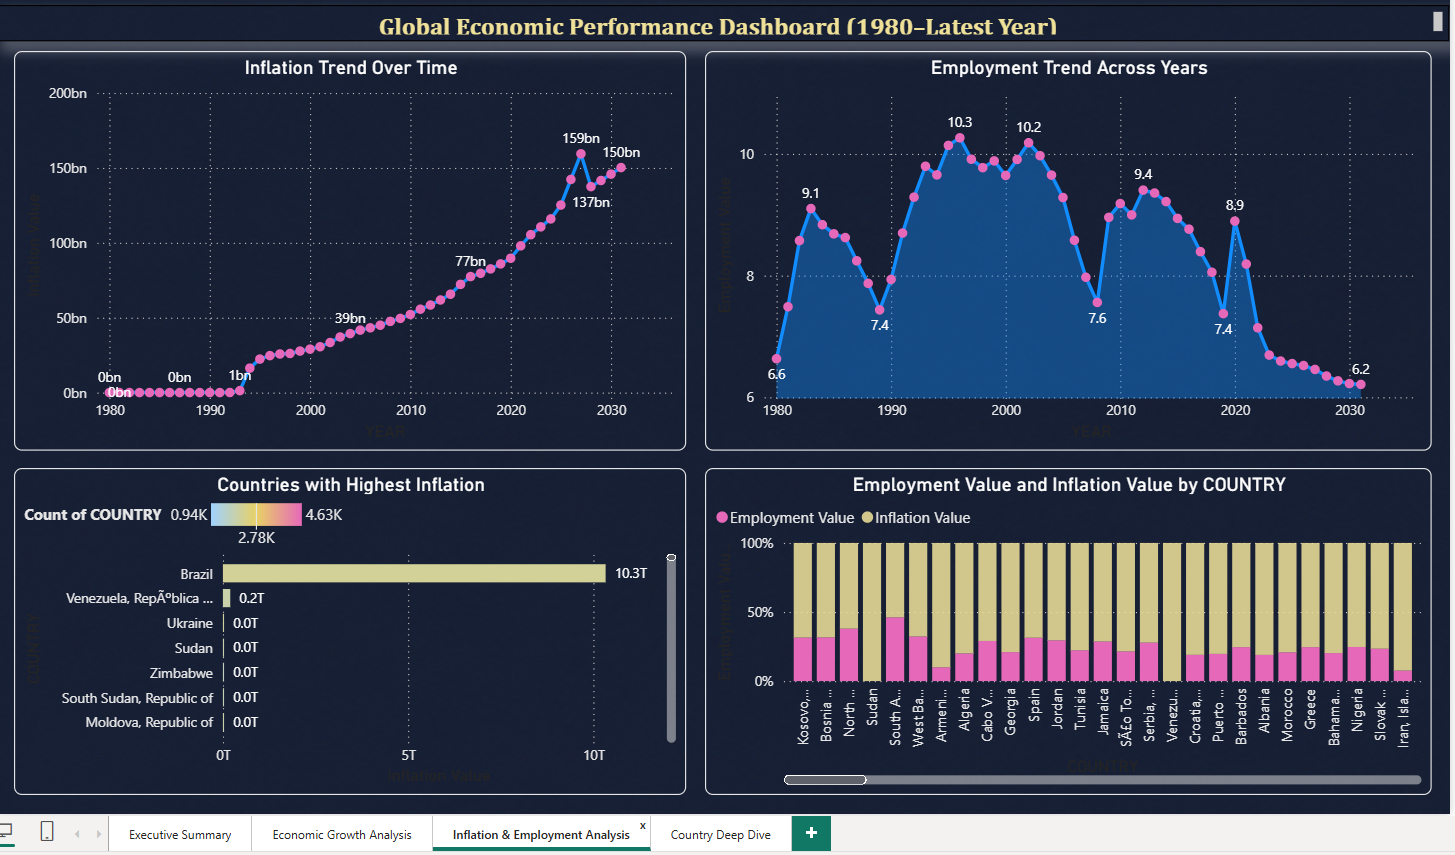

The page's visual inventory and layout, read from the dashboard file:
{"tool":"powerbi","page":{"name":"Inflation & Employment Analysis","canvas":[1280,720],"ordinal":2},"visuals":[{"type":"textbox","box":[0,8,1280,32],"z":0},{"type":"lineChart","title":"Inflation Trend Over Time","fields":{"Category":["weo_clean.YEAR"],"Y":["weo_clean.Inflation Value"]},"box":[16,48,592,352],"z":1000},{"type":"clusteredBarChart","title":"Countries with Highest Inflation","fields":{"Category":["weo_clean.COUNTRY"],"Y":["weo_clean.Inflation Value"]},"box":[16,416,592,288],"z":2000},{"type":"areaChart","title":"Employment Trend Across Years","fields":{"Category":["weo_clean.YEAR"],"Y":["weo_clean.Employment Value"]},"box":[624,48,640,352],"z":3000},{"type":"hundredPercentStackedColumnChart","fields":{"Y":["weo_clean.Employment Value","weo_clean.Inflation Value"],"Category":["weo_clean.COUNTRY"]},"box":[624,416,640,288],"z":4000}]}

Visuals, with their boxes in screenshot pixels (x1, y1, x2, y2):
textbox: bbox=[0, 2, 1454, 39]
"Inflation Trend Over Time" lineChart: bbox=[0, 48, 684, 457]
"Countries with Highest Inflation" clusteredBarChart: bbox=[0, 476, 684, 811]
"Employment Trend Across Years" areaChart: bbox=[702, 48, 1446, 457]
hundredPercentStackedColumnChart - weo_clean.Employment Value x weo_clean.Inflation Value: bbox=[702, 476, 1446, 811]
